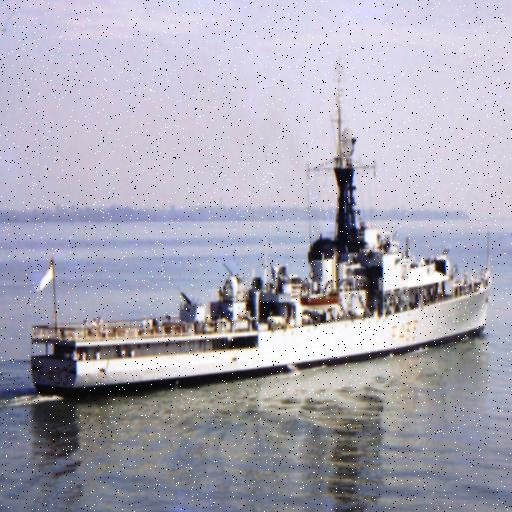Fragata: (30, 64, 500, 403)
